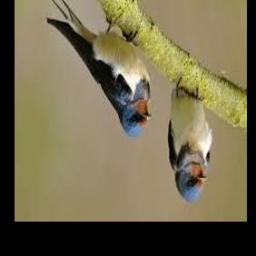Swallow: (27, 0, 153, 136), (167, 84, 212, 202)
